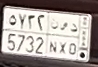2: (35, 12, 46, 57)
3: (26, 13, 37, 55)
5: (7, 13, 17, 52)
7: (16, 12, 27, 52)
D: (69, 22, 78, 56)
N: (48, 17, 59, 54)
X: (58, 20, 69, 56)
